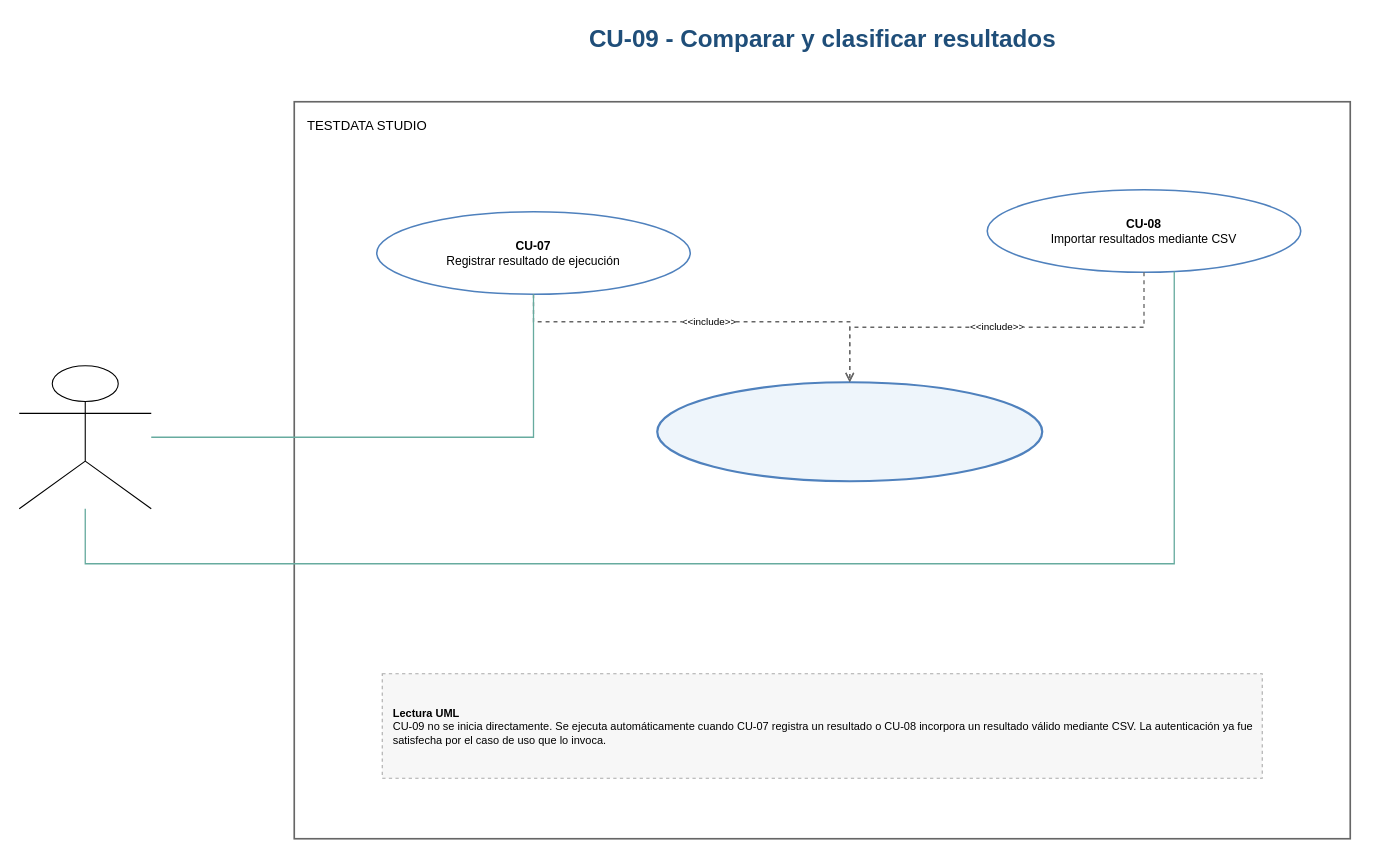
Some shapes in this 1392 by 858 pixel diagram are drawn without their labels. The box of each missing label's shape, as (x1, y1, x2, y2) in pixels:
Analista/Tester: (18, 365, 151, 509)
CU-09 Comparar y clasificar resultados: (656, 381, 1043, 482)
